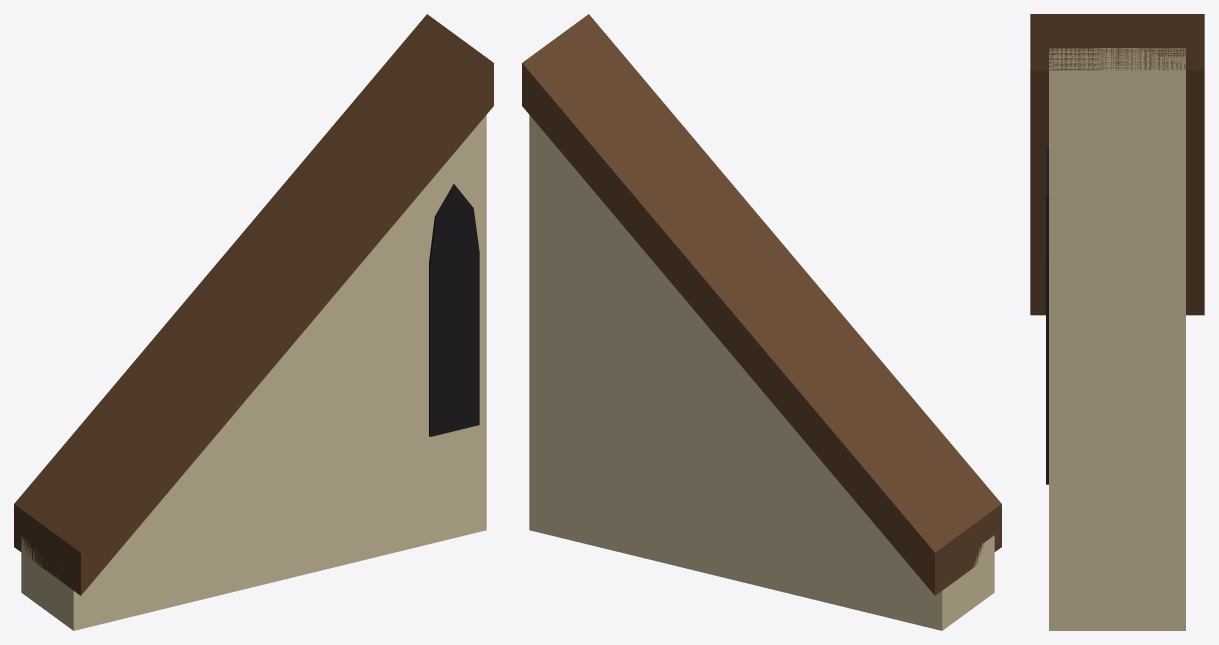
Rendered from Gable0Slit.fbx.
3 renders of one model, left to right at view 1: azimuth 30°, elevation 25°; view 2: azimuth 150°, elevation 25°; view 3: azimuth 270°, elevation 25°, orthographic. The views are drawn at different scales.
Visible parts, largest first — view 1: Kit_Gable0Slit; view 2: Kit_Gable0Slit; view 3: Kit_Gable0Slit.
Boxes of the visible parts, left/top/right/bottom form: Kit_Gable0Slit: left=14, top=14, right=493, bottom=630; Kit_Gable0Slit: left=522, top=14, right=1001, bottom=630; Kit_Gable0Slit: left=1030, top=14, right=1204, bottom=630.
Bounding box in the file's own units: 1 × 1.09 × 0.28.
